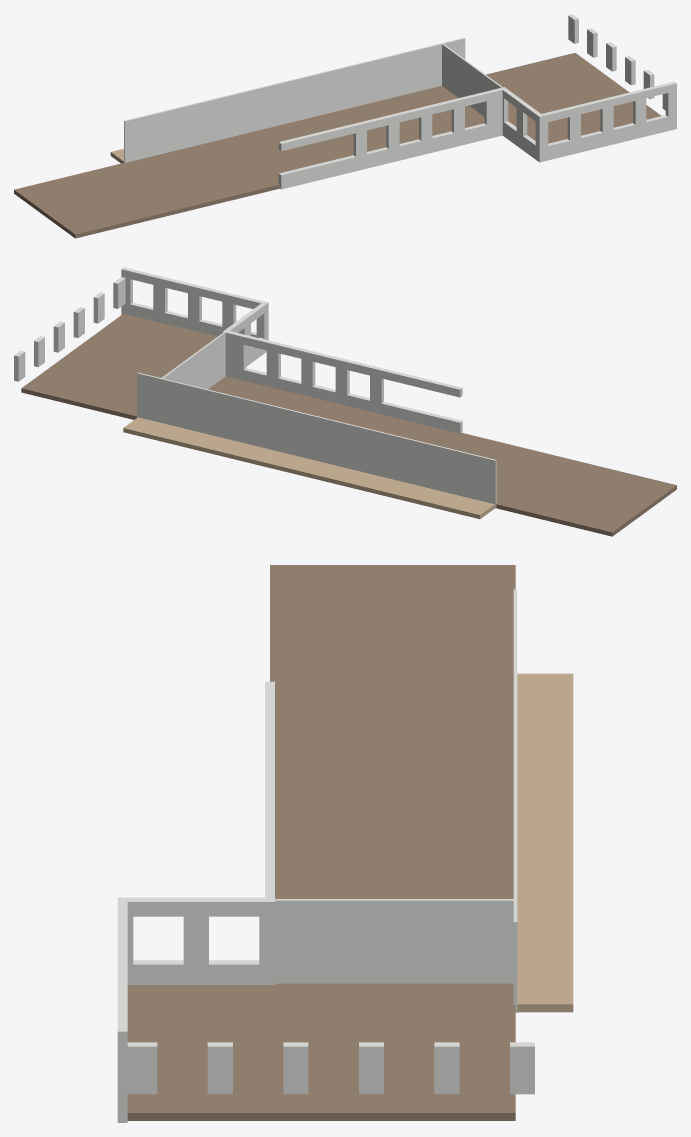
File: SM_Bygg_Helgasetr_P5_O_S.fbx
The picture shows the model from 3 angles, top to bottom: view 1: azimuth 30°, elevation 25°; view 2: azimuth 150°, elevation 25°; view 3: azimuth 270°, elevation 25°; orthographic projection. The views are drawn at different scales.
Parts seen in each view (by area): view 1: SM_Bygg_Helgasetr_P5_O_S; view 2: SM_Bygg_Helgasetr_P5_O_S; view 3: SM_Bygg_Helgasetr_P5_O_S.
Part boxes in pixels (x1=…): SM_Bygg_Helgasetr_P5_O_S: x1=14, y1=14, x2=676, y2=238; SM_Bygg_Helgasetr_P5_O_S: x1=14, y1=267, x2=676, y2=536; SM_Bygg_Helgasetr_P5_O_S: x1=117, y1=565, x2=573, y2=1122.
Size of the model in its own units: 18.11 by 51.7 by 4.
